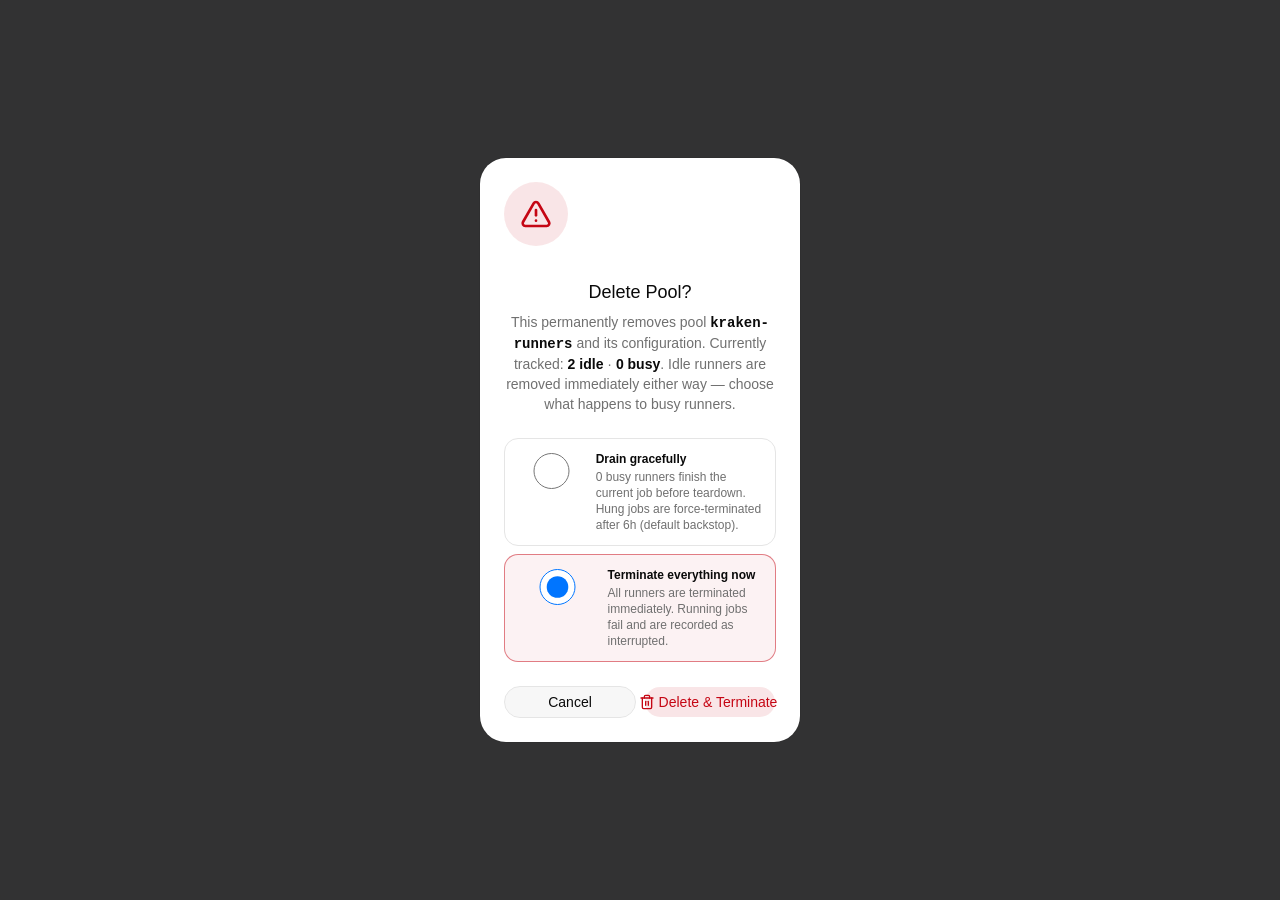
Test: PoolDeleteModal › shows an error and stays open when the mutation fails
Click the button "Delete & Terminate": (710, 702) [644,686,776,718]
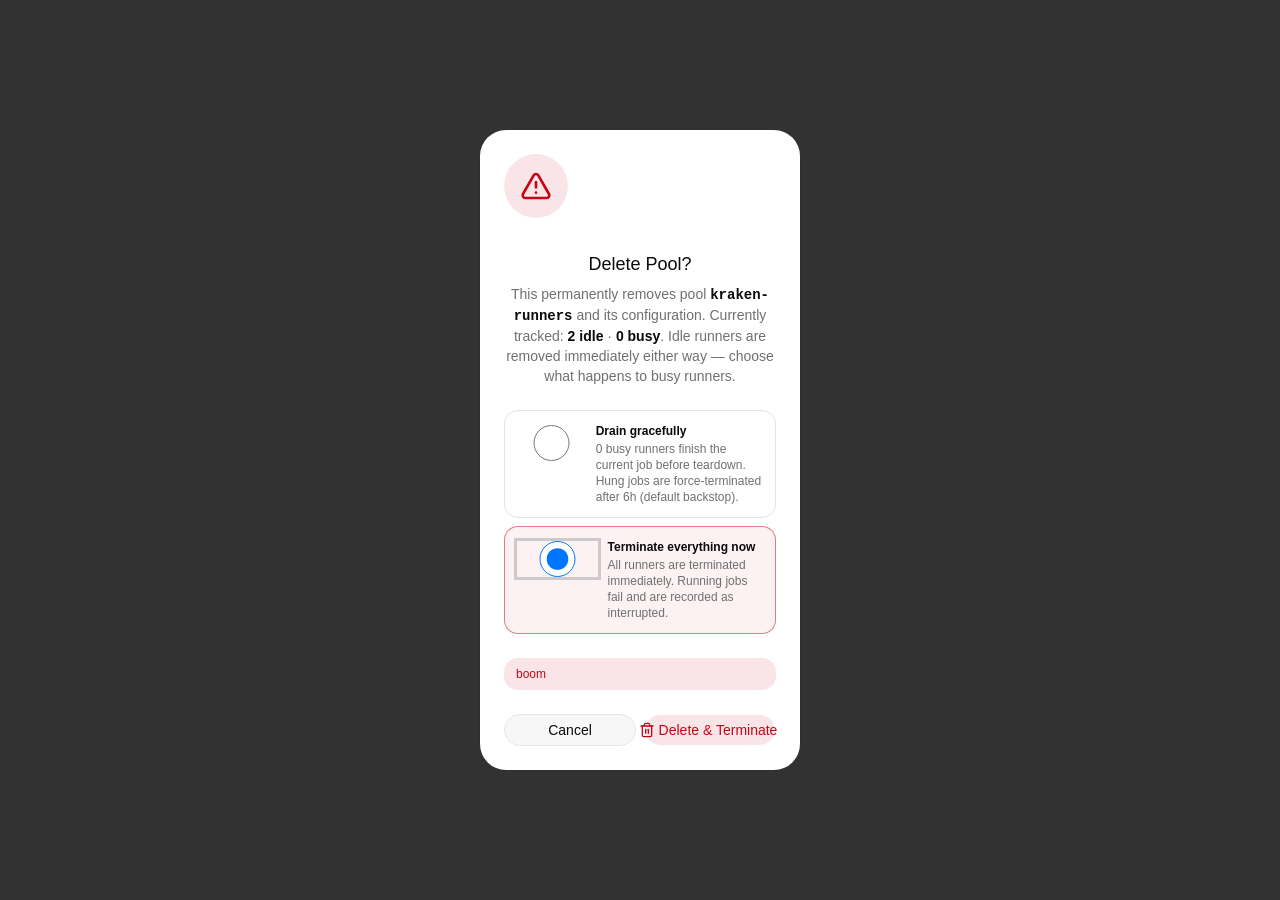
Now the text "boom" is shown, box [504,658,776,690]
